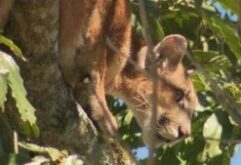OncaParda: (71, 0, 197, 147)
